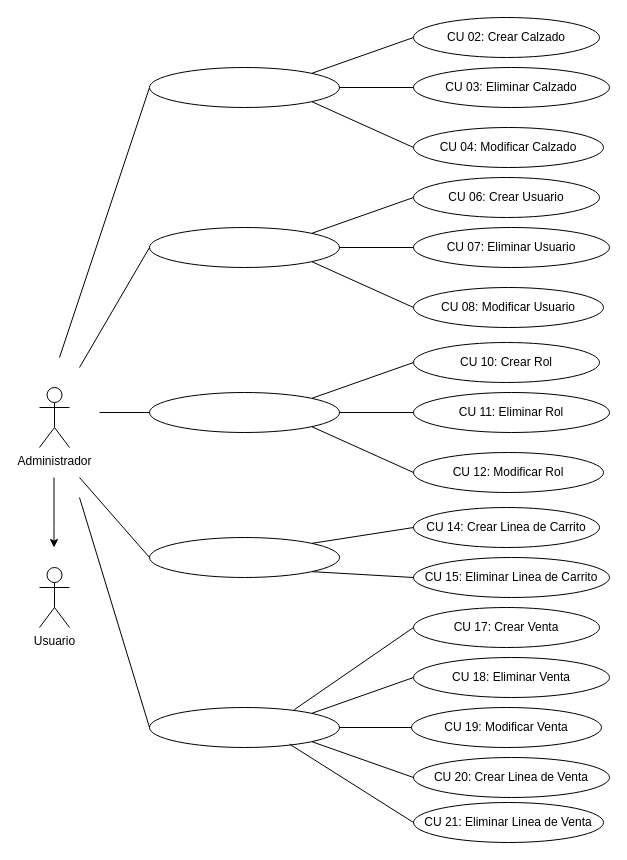
Some shapes in this 627 by 860 pixel diagram are drawn without their labels. Each missing label, with the centre of its shape:
"CU 01: Ver calzados" belongs at point (244, 87).
"CU 05: Ver Usuarios" belongs at point (244, 247).
"CU 09: Ver Roles" belongs at point (244, 412).
"CU 13: Ver Carritos" belongs at point (244, 557).
"CU 16: Ver Ventas" belongs at point (244, 727).
